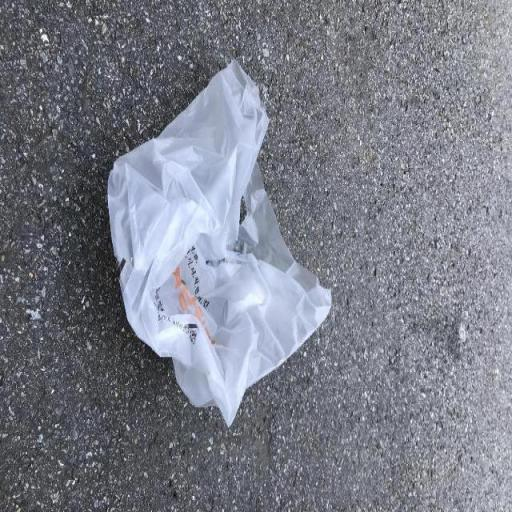plastic-bag: (106, 59, 336, 428)
